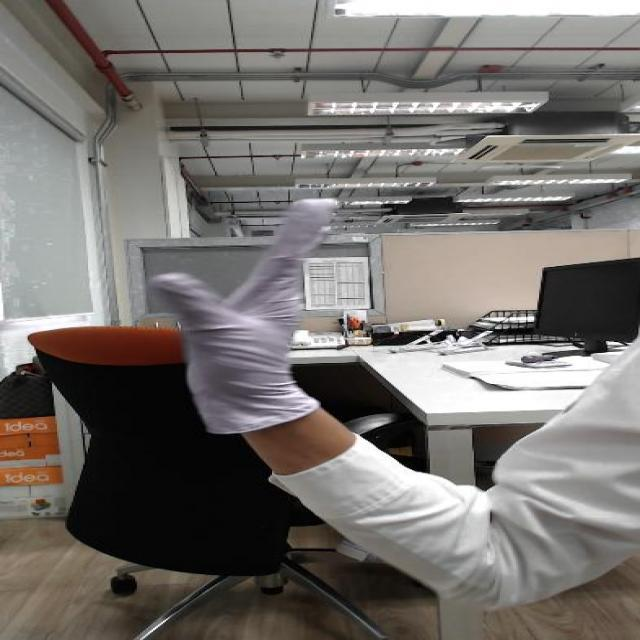with_gloves: (88, 170, 404, 390)
